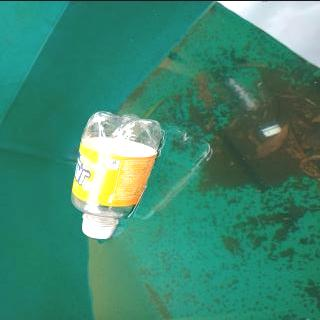bottle: (67, 109, 164, 240)
